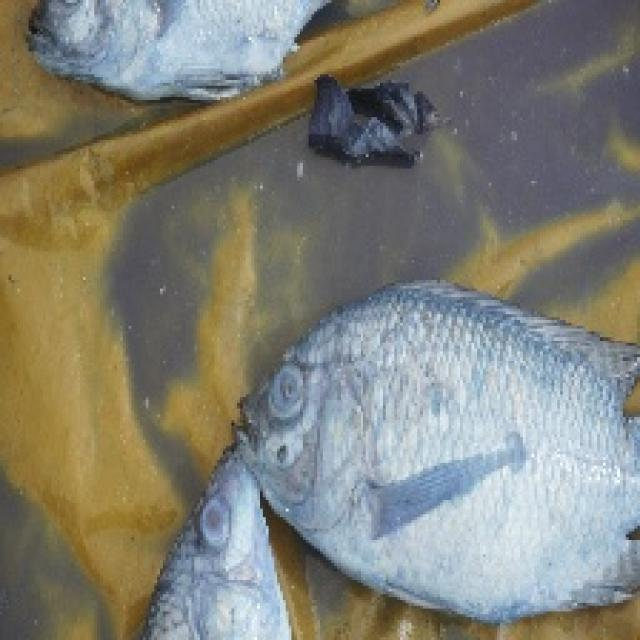Non-Fresh: (248, 285, 640, 591), (155, 473, 276, 640)
